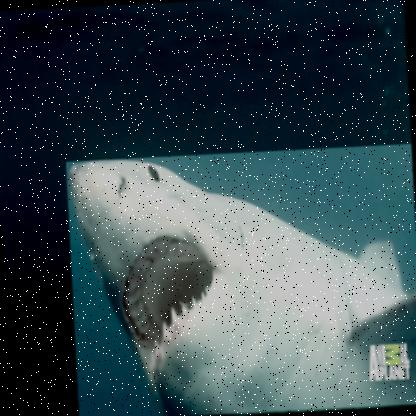bulldog-shark: (65, 143, 415, 415)
